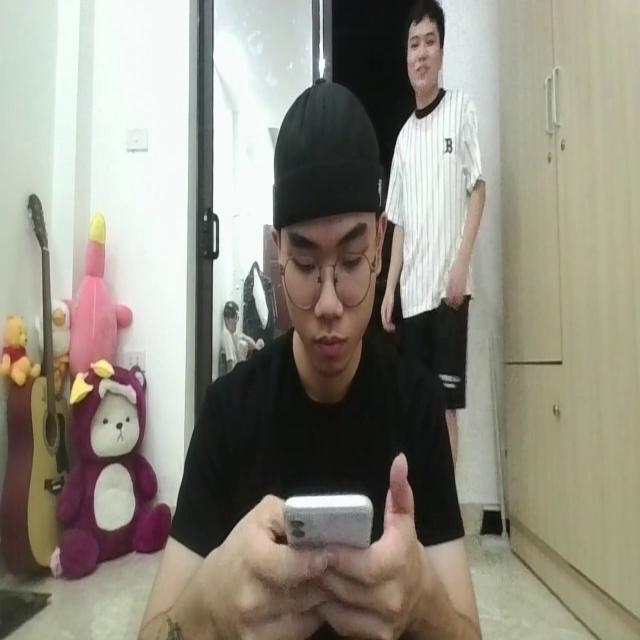extra_person: (379, 8, 491, 435)
phone: (283, 475, 376, 575)
student: (151, 77, 485, 640)
